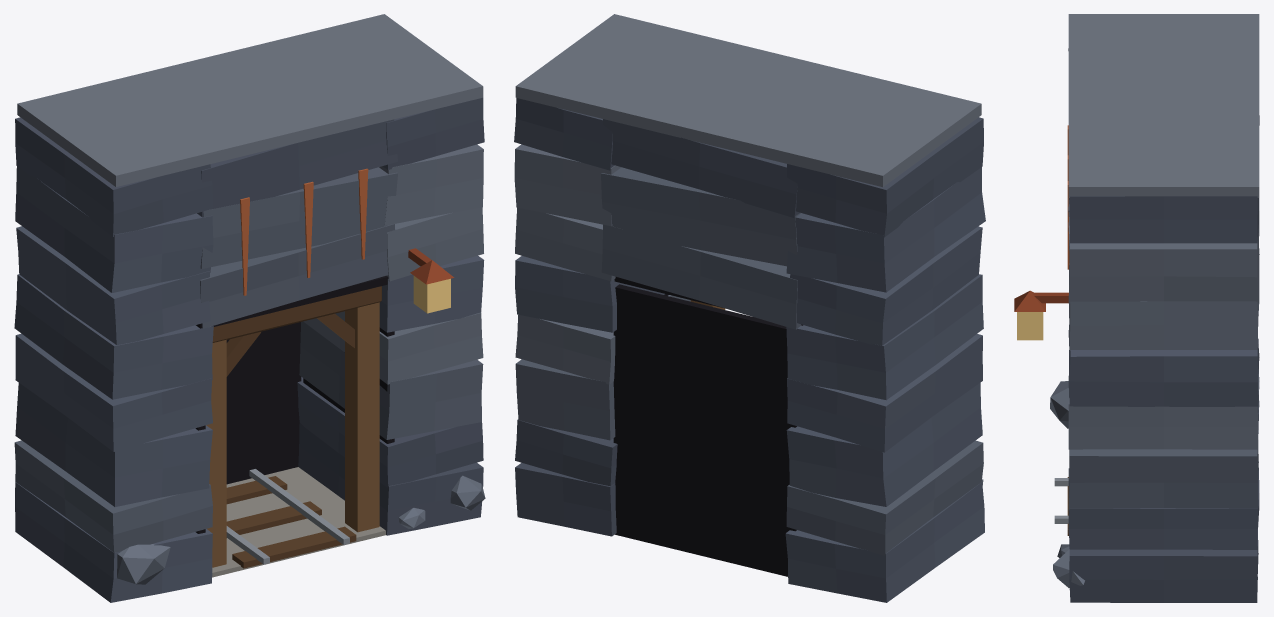
The model's file is cave_mouth_slate.glb.
The picture shows the model from 3 angles, left to right: view 1: azimuth 30°, elevation 25°; view 2: azimuth 150°, elevation 25°; view 3: azimuth 270°, elevation 25°; orthographic projection. The views are drawn at different scales.
Parts seen in each view (by area): view 1: cave_mouth_slate; view 2: cave_mouth_slate; view 3: cave_mouth_slate.
Boxes of the visible parts, <box> form: cave_mouth_slate: <box>14,14,485,602</box>; cave_mouth_slate: <box>514,14,985,602</box>; cave_mouth_slate: <box>1014,14,1259,602</box>.
Bounding box in the file's own units: 2.06 × 2.27 × 1.21.
